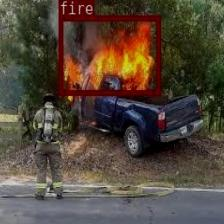fire: (58, 15, 160, 94)
